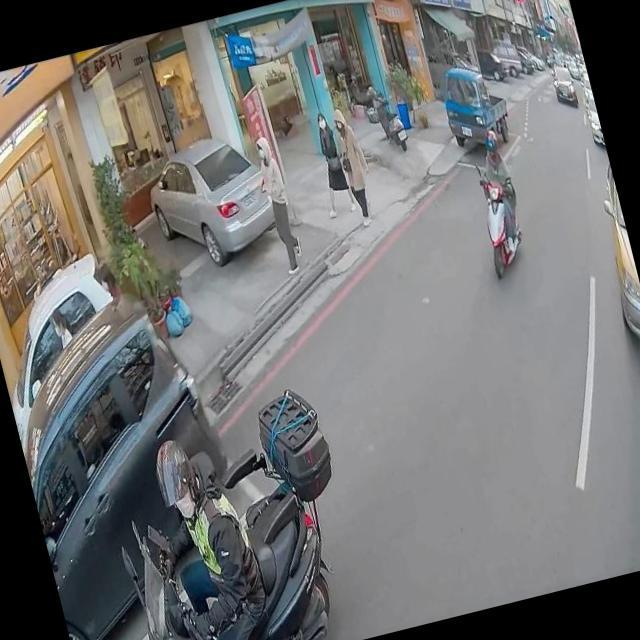person: (130, 412, 287, 640), (244, 126, 309, 281), (462, 123, 530, 260), (322, 100, 380, 226), (301, 107, 360, 227), (91, 256, 130, 308), (42, 305, 77, 352)
